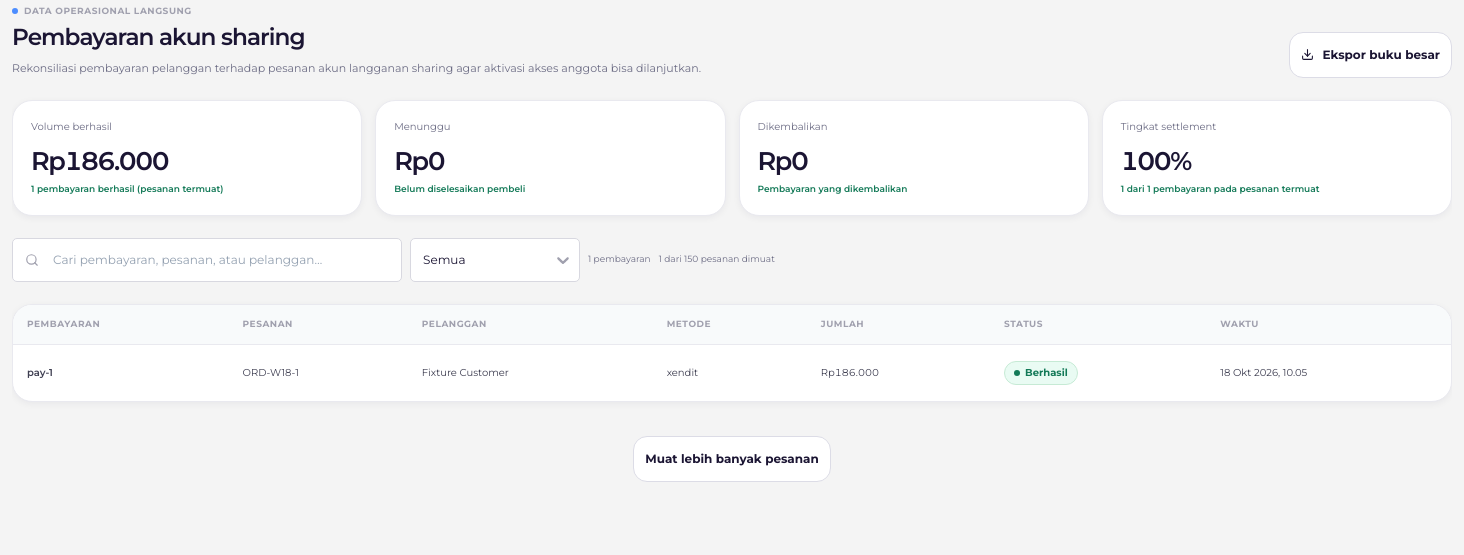
Test: pembayaran admin (W18) › memuat pesanan pembayaran berikutnya dan menampilkan cakupan data termuat
Expected: the text "pay-1" is shown, 13,345 -> 228,401
Expected: the text "1 dari 150 pesanan dimuat" is shown, 659,252 -> 775,267
Click the button "Muat lebih banyak pesanan".
click(732, 459)  # box 633,436 -> 831,482
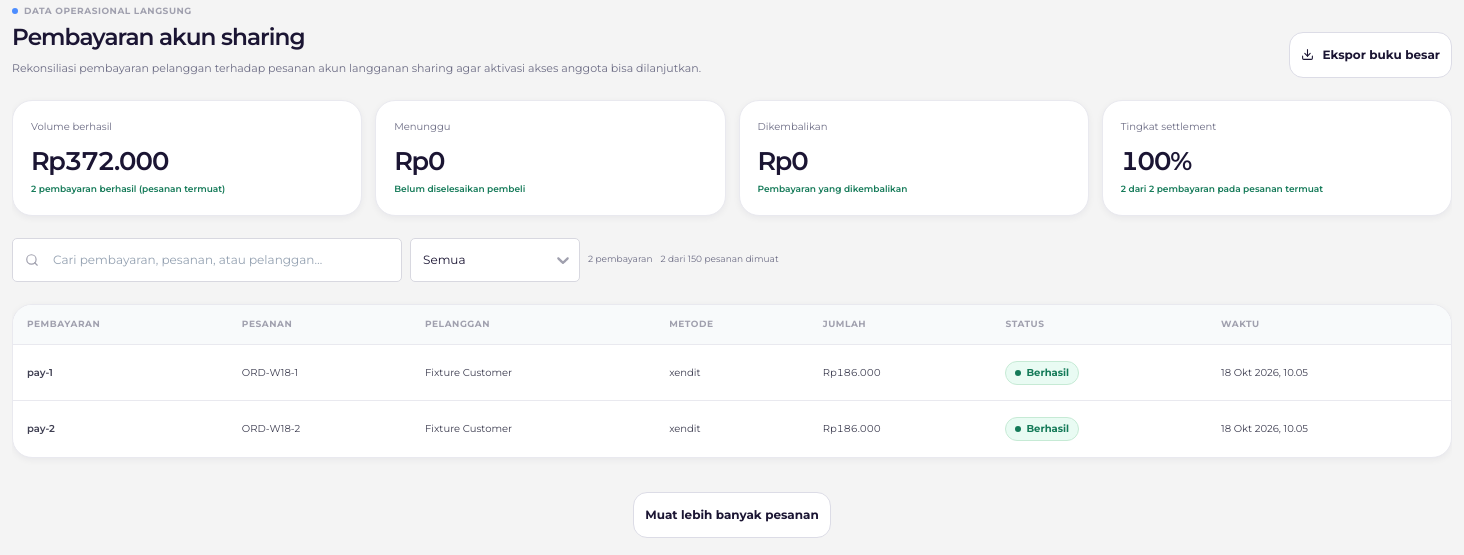
Expected: the text "pay-2" is shown, 13,401 -> 228,457
Expected: the text "2 dari 150 pesanan dimuat" is shown, 660,252 -> 779,267
